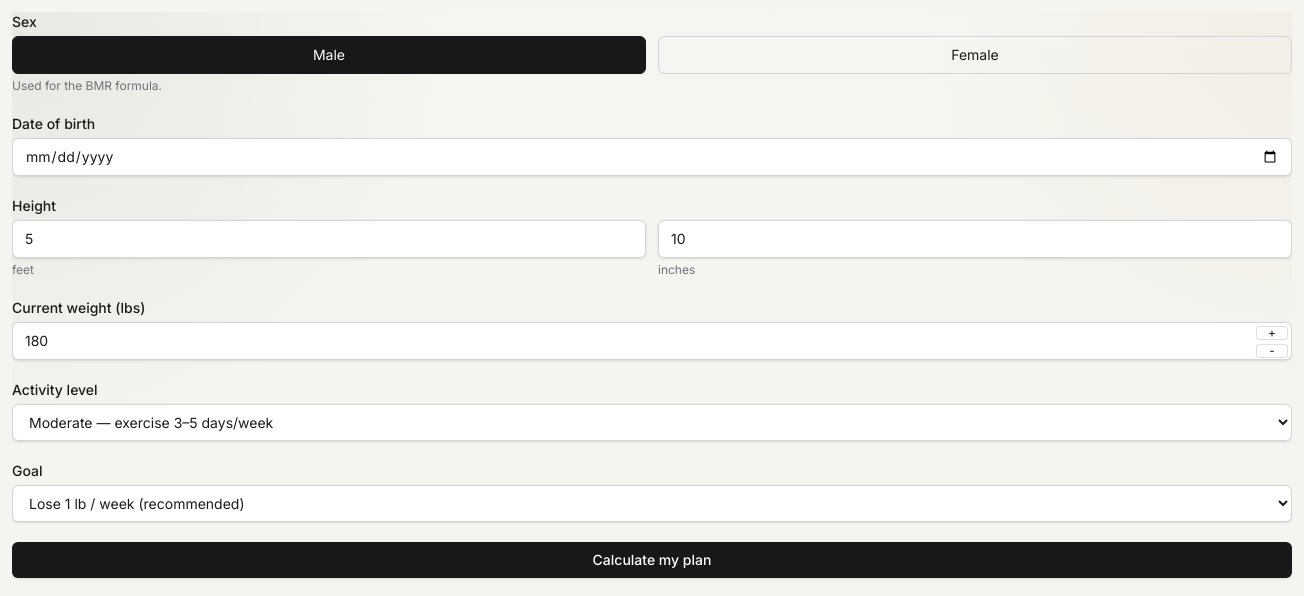
Test case: OnboardingForm › shows server errors returned during save
In the date field labelled "Date of birth": (652, 157) top-left (12, 138), bottom-right (1292, 176), type "1990-01-01"
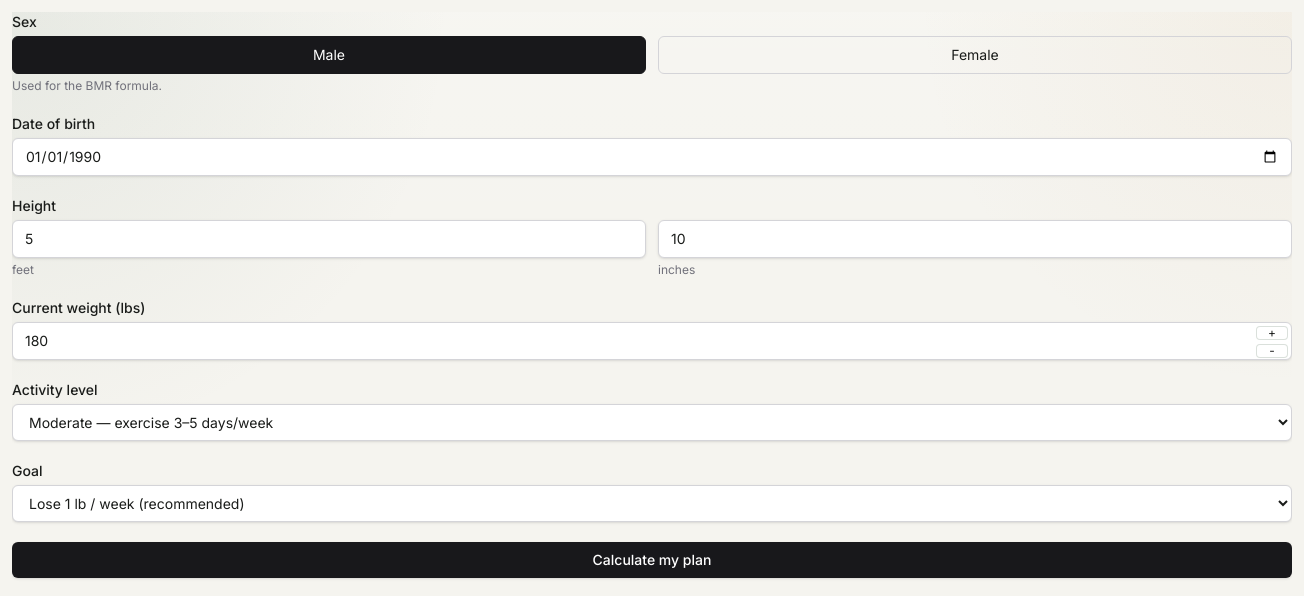
Click the button "Calculate my plan": (652, 560) top-left (12, 542), bottom-right (1292, 578)
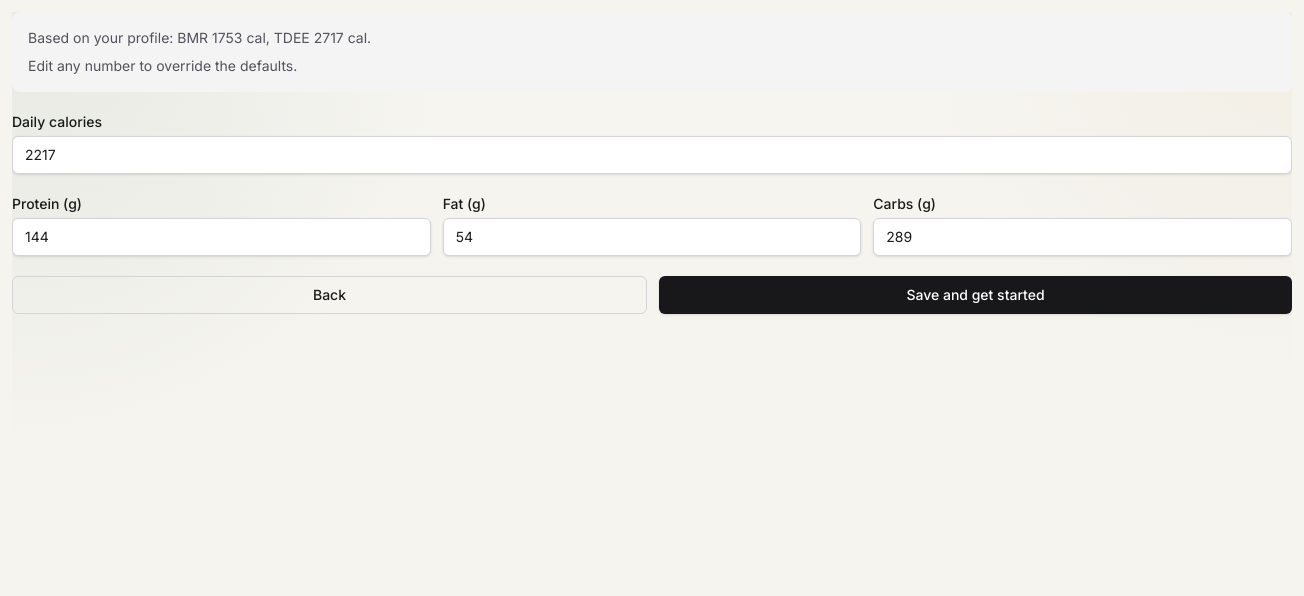
Check: the text "Based on your profile: BMR 1753 cal, TDEE 2717 cal." is shown, box top-left (28, 29), bottom-right (371, 46)
Click the button "Save and get started": (976, 295) top-left (659, 276), bottom-right (1292, 314)
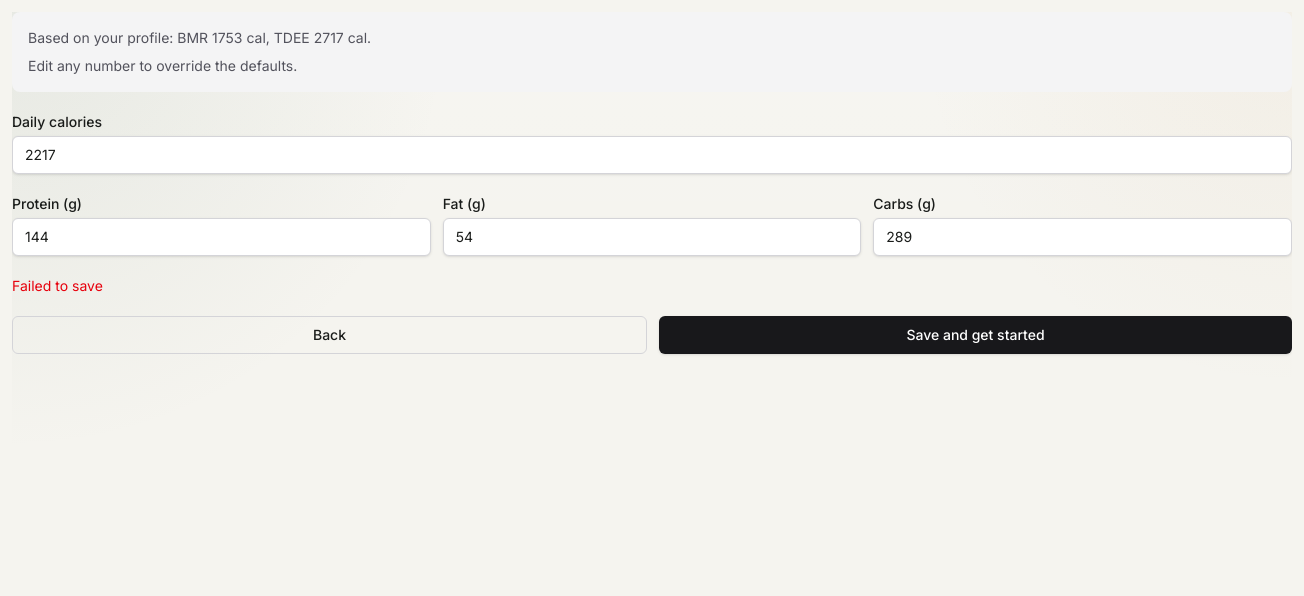
Check: the text "Failed to save" is shown, box top-left (12, 277), bottom-right (103, 294)
